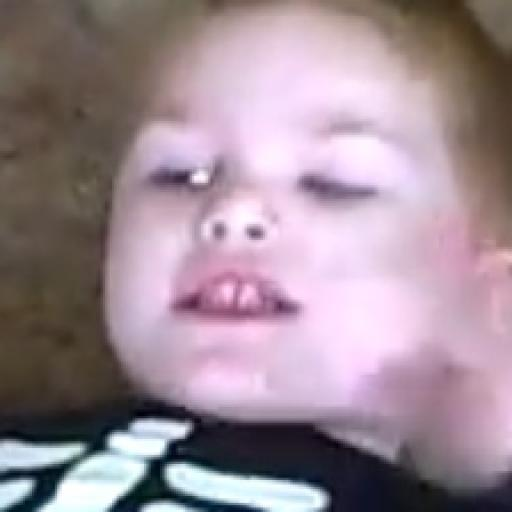Autism: (84, 4, 512, 452)
